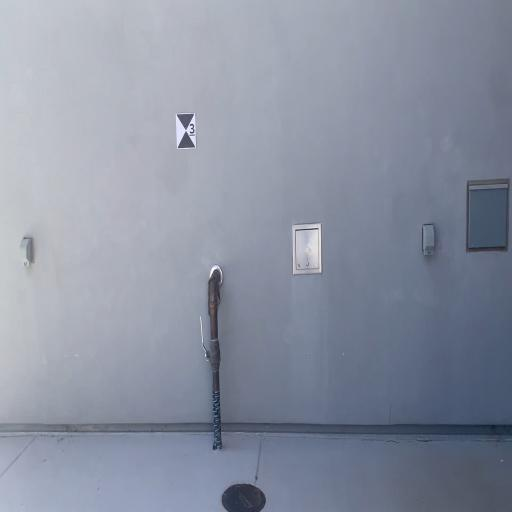target3: (176, 111, 196, 150)
